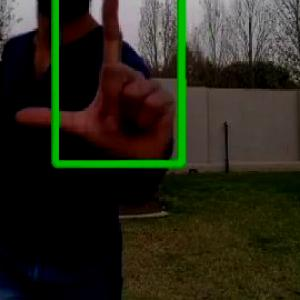land_hand: (11, 0, 177, 166)
